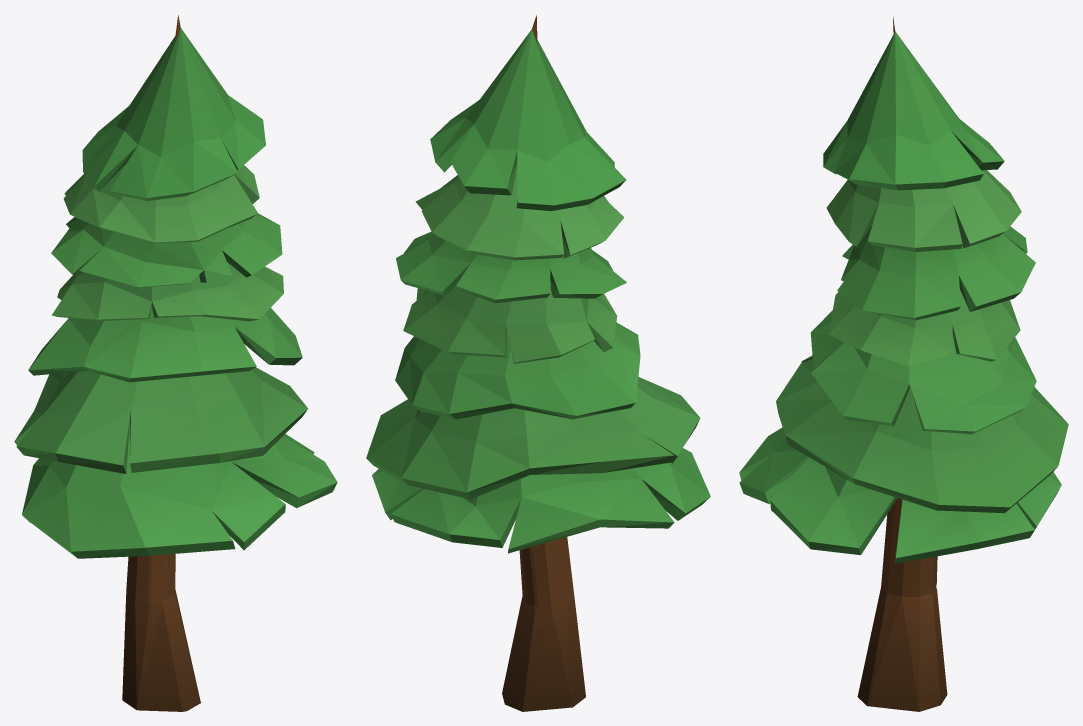
Rendered from tree_fir.glb.
3 views of the same model, side by side, from view 1: azimuth 30°, elevation 25°; view 2: azimuth 150°, elevation 25°; view 3: azimuth 270°, elevation 25° (orthographic).
Visible parts, largest first — view 1: tree_fir; view 2: tree_fir; view 3: tree_fir.
Boxes of the visible parts, <box> form: tree_fir: <box>14,15,337,711</box>; tree_fir: <box>366,15,710,711</box>; tree_fir: <box>739,16,1068,711</box>.
Size of the model in its own units: 1.87 by 4.2 by 1.83.
1 material, 1 textured.
